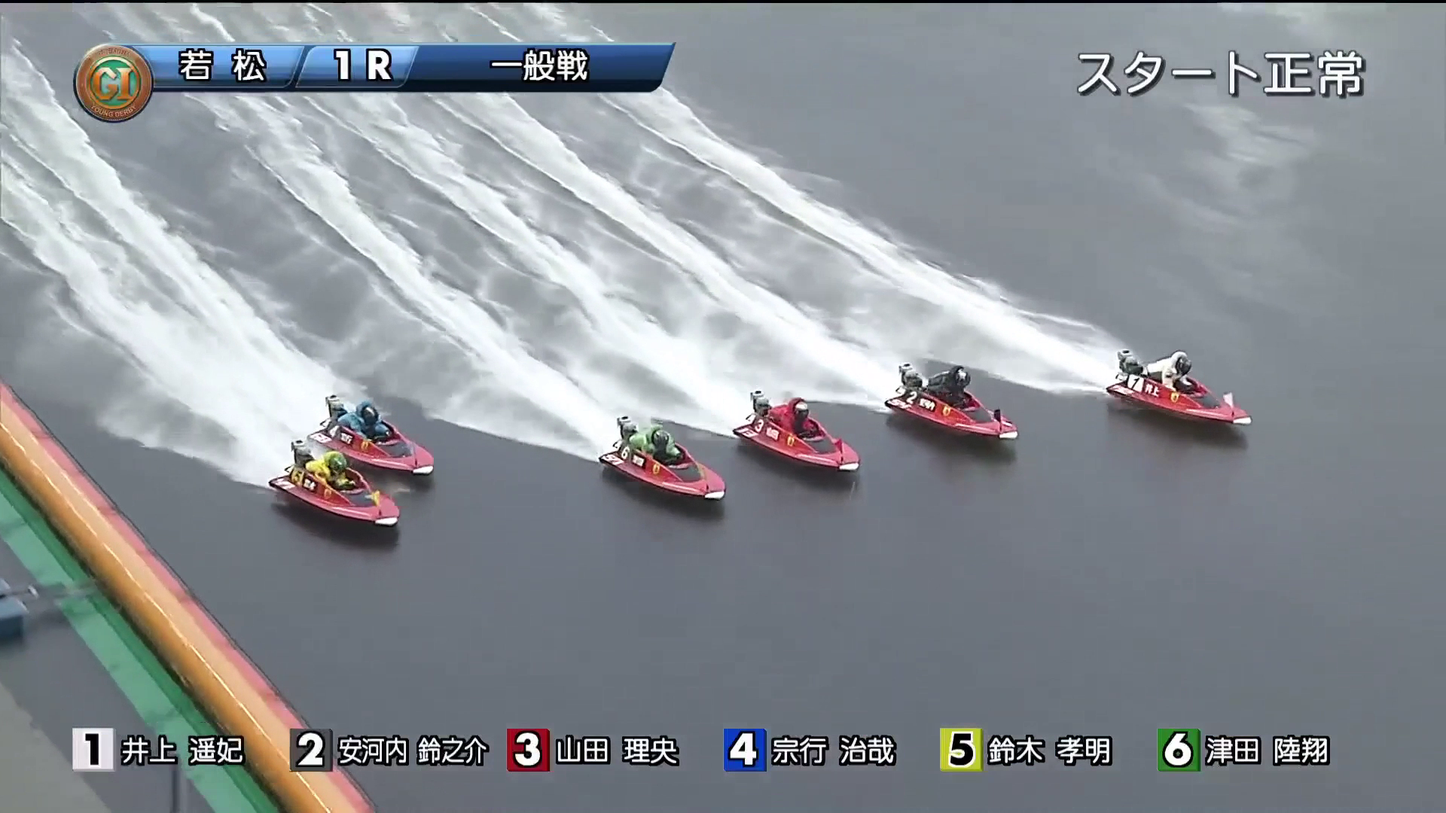１号艇: (1118, 355, 1243, 405)
２号艇: (898, 371, 1017, 426)
３号艇: (755, 425, 883, 467)
４号艇: (623, 448, 739, 508)
５号艇: (334, 424, 457, 479)
６号艇: (325, 501, 424, 558)
